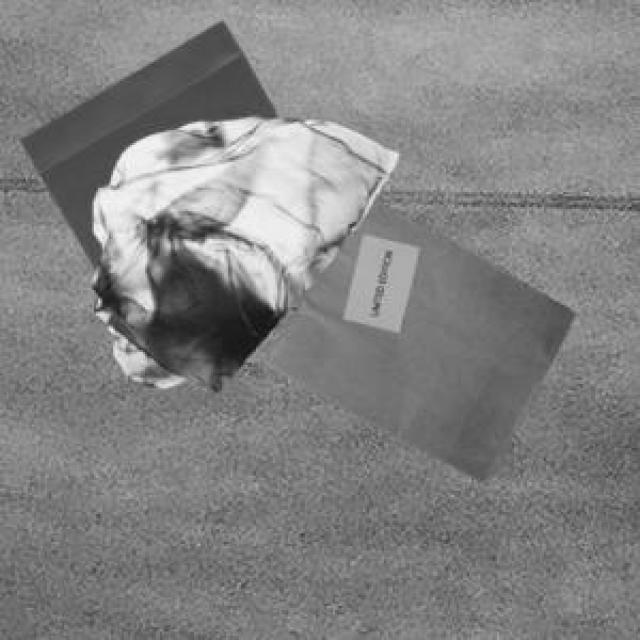paper: (262, 196, 570, 480), (17, 17, 273, 265)
